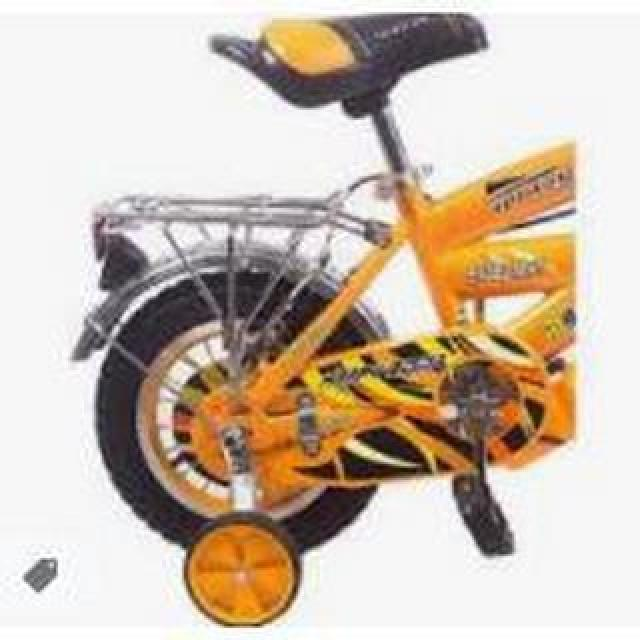Person: (65, 11, 579, 623)
